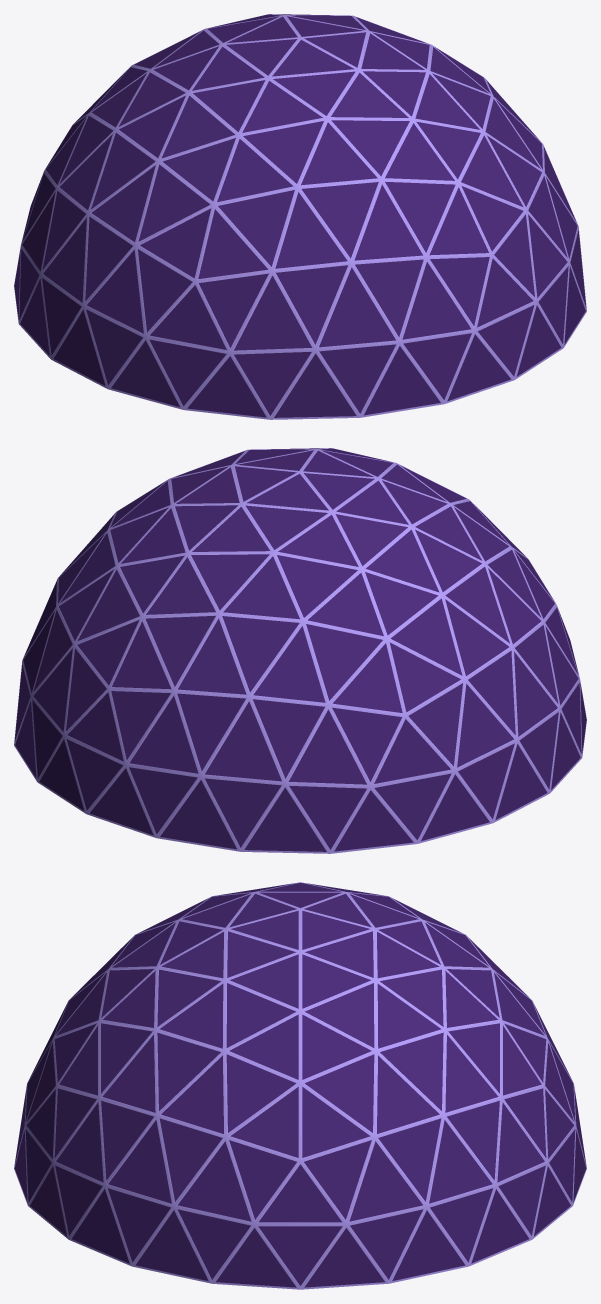
Rendered from Dome.glb.
3 renders of one model, top to bottom at view 1: azimuth 30°, elevation 25°; view 2: azimuth 150°, elevation 25°; view 3: azimuth 270°, elevation 25°, orthographic.
Visible parts, largest first — view 1: GeoSphere002; view 2: GeoSphere002; view 3: GeoSphere002.
Part boxes in pixels (x1,y1,x2,y2): GeoSphere002: (14,14,586,419); GeoSphere002: (14,448,586,853); GeoSphere002: (14,882,586,1289).
Size of the model in its own units: 1251 by 626 by 1251.
